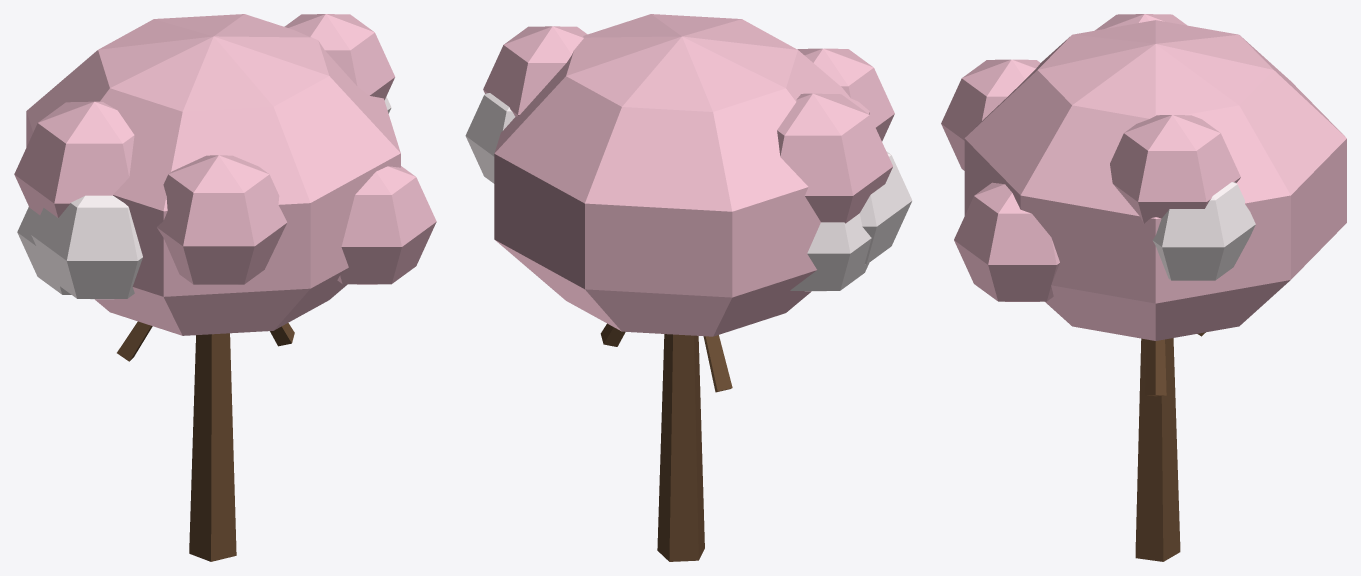
The model's file is fruit_tree_bloom.glb.
The picture shows the model from 3 angles, left to right: view 1: azimuth 30°, elevation 25°; view 2: azimuth 150°, elevation 25°; view 3: azimuth 270°, elevation 25°; orthographic projection.
Parts seen in each view (by area): view 1: fruit_tree_bloom; view 2: fruit_tree_bloom; view 3: fruit_tree_bloom.
Boxes of the visible parts, box(x1,y1,x2,y2) form: fruit_tree_bloom: box(14, 14, 436, 561); fruit_tree_bloom: box(465, 14, 912, 561); fruit_tree_bloom: box(941, 14, 1346, 561).
Bounding box in the file's own units: 2.72 × 3.62 × 2.62.
